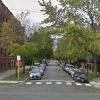Tree: (40, 5, 100, 66)
